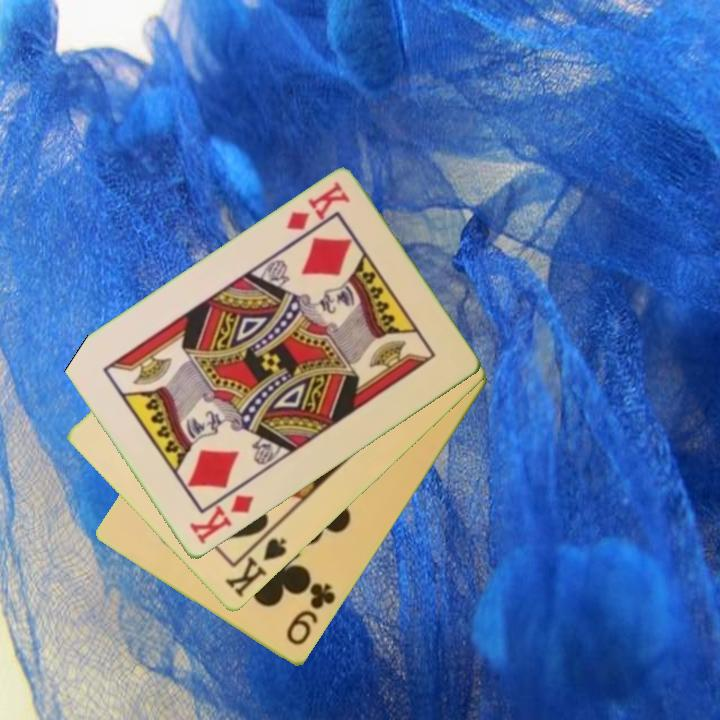9c: (282, 579, 339, 649)
Kd: (185, 491, 257, 548), (282, 178, 353, 234)
Ks: (221, 525, 290, 601)
